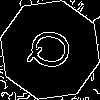Q: (25, 25, 82, 76)
